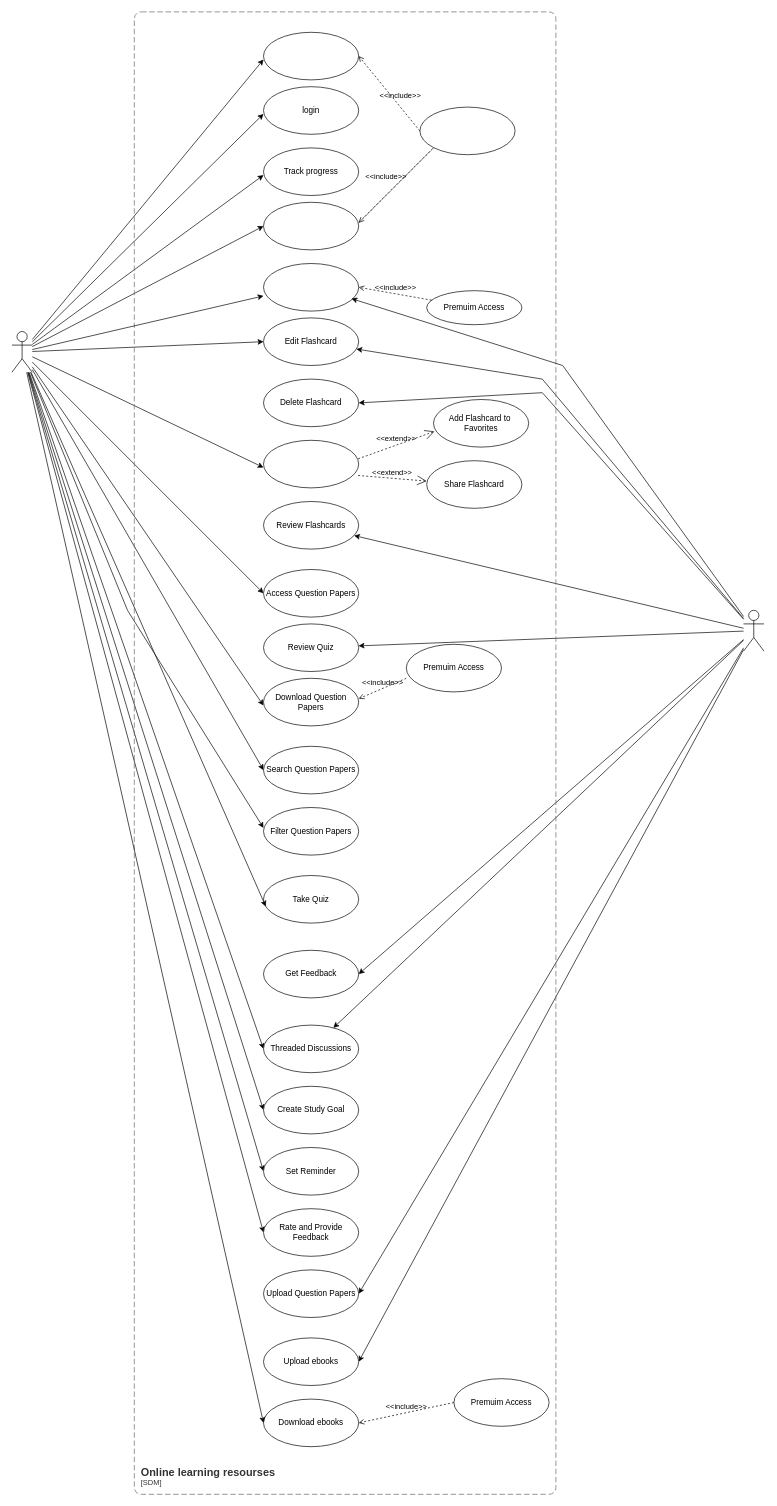
Image size: 777x1506. Some labels were removed from this diagram. Each missing label, with the centre of its shape:
Admin: pixel 753 630
Create Flashcard: pixel 311 287
Recover Password: pixel 311 226
Register: pixel 311 56
User: pixel 21 351
Verify Email: pixel 467 130
View Flashcards in StudyMode: pixel 311 464
